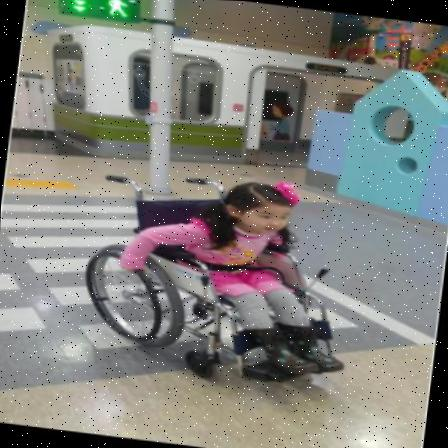wheel: (76, 157, 354, 393)
